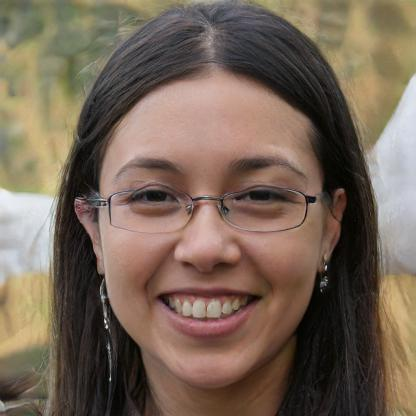glasses: (94, 182, 321, 234)
